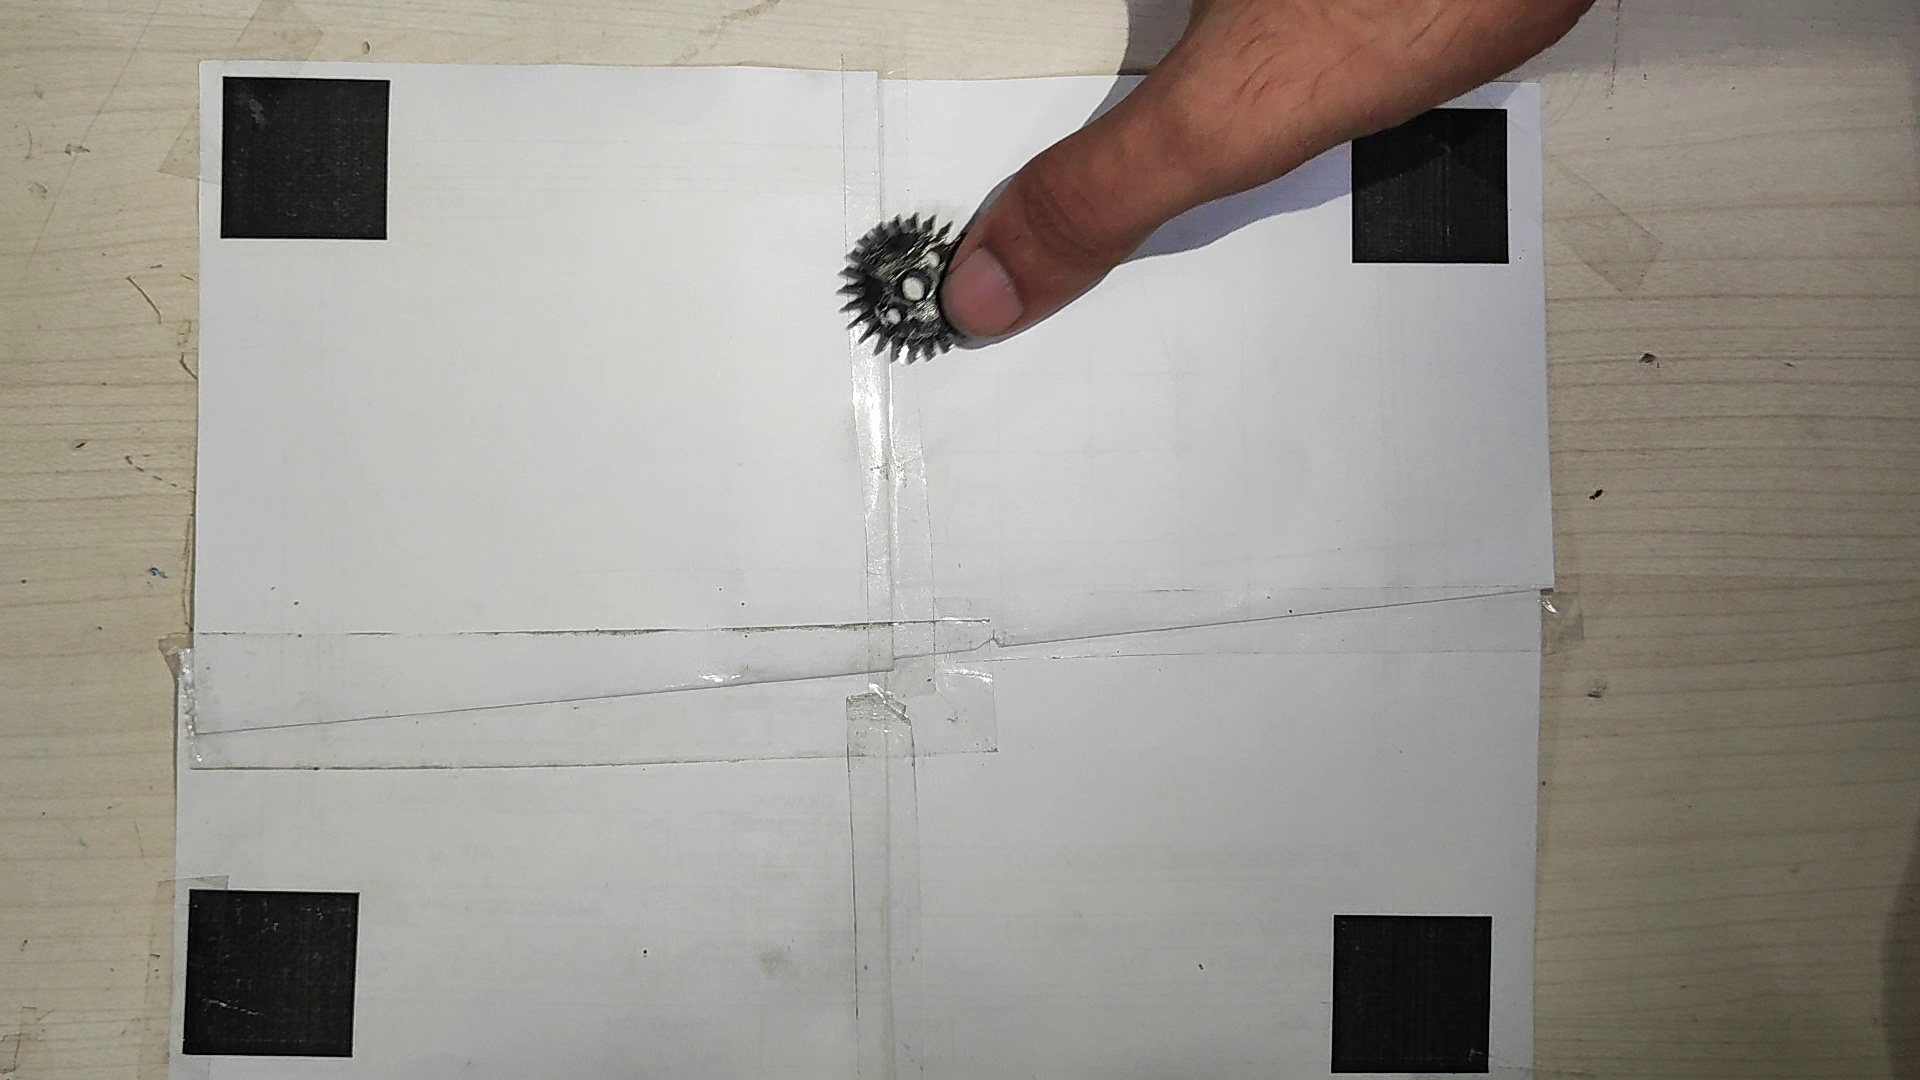Gear: (829, 211, 967, 371)
